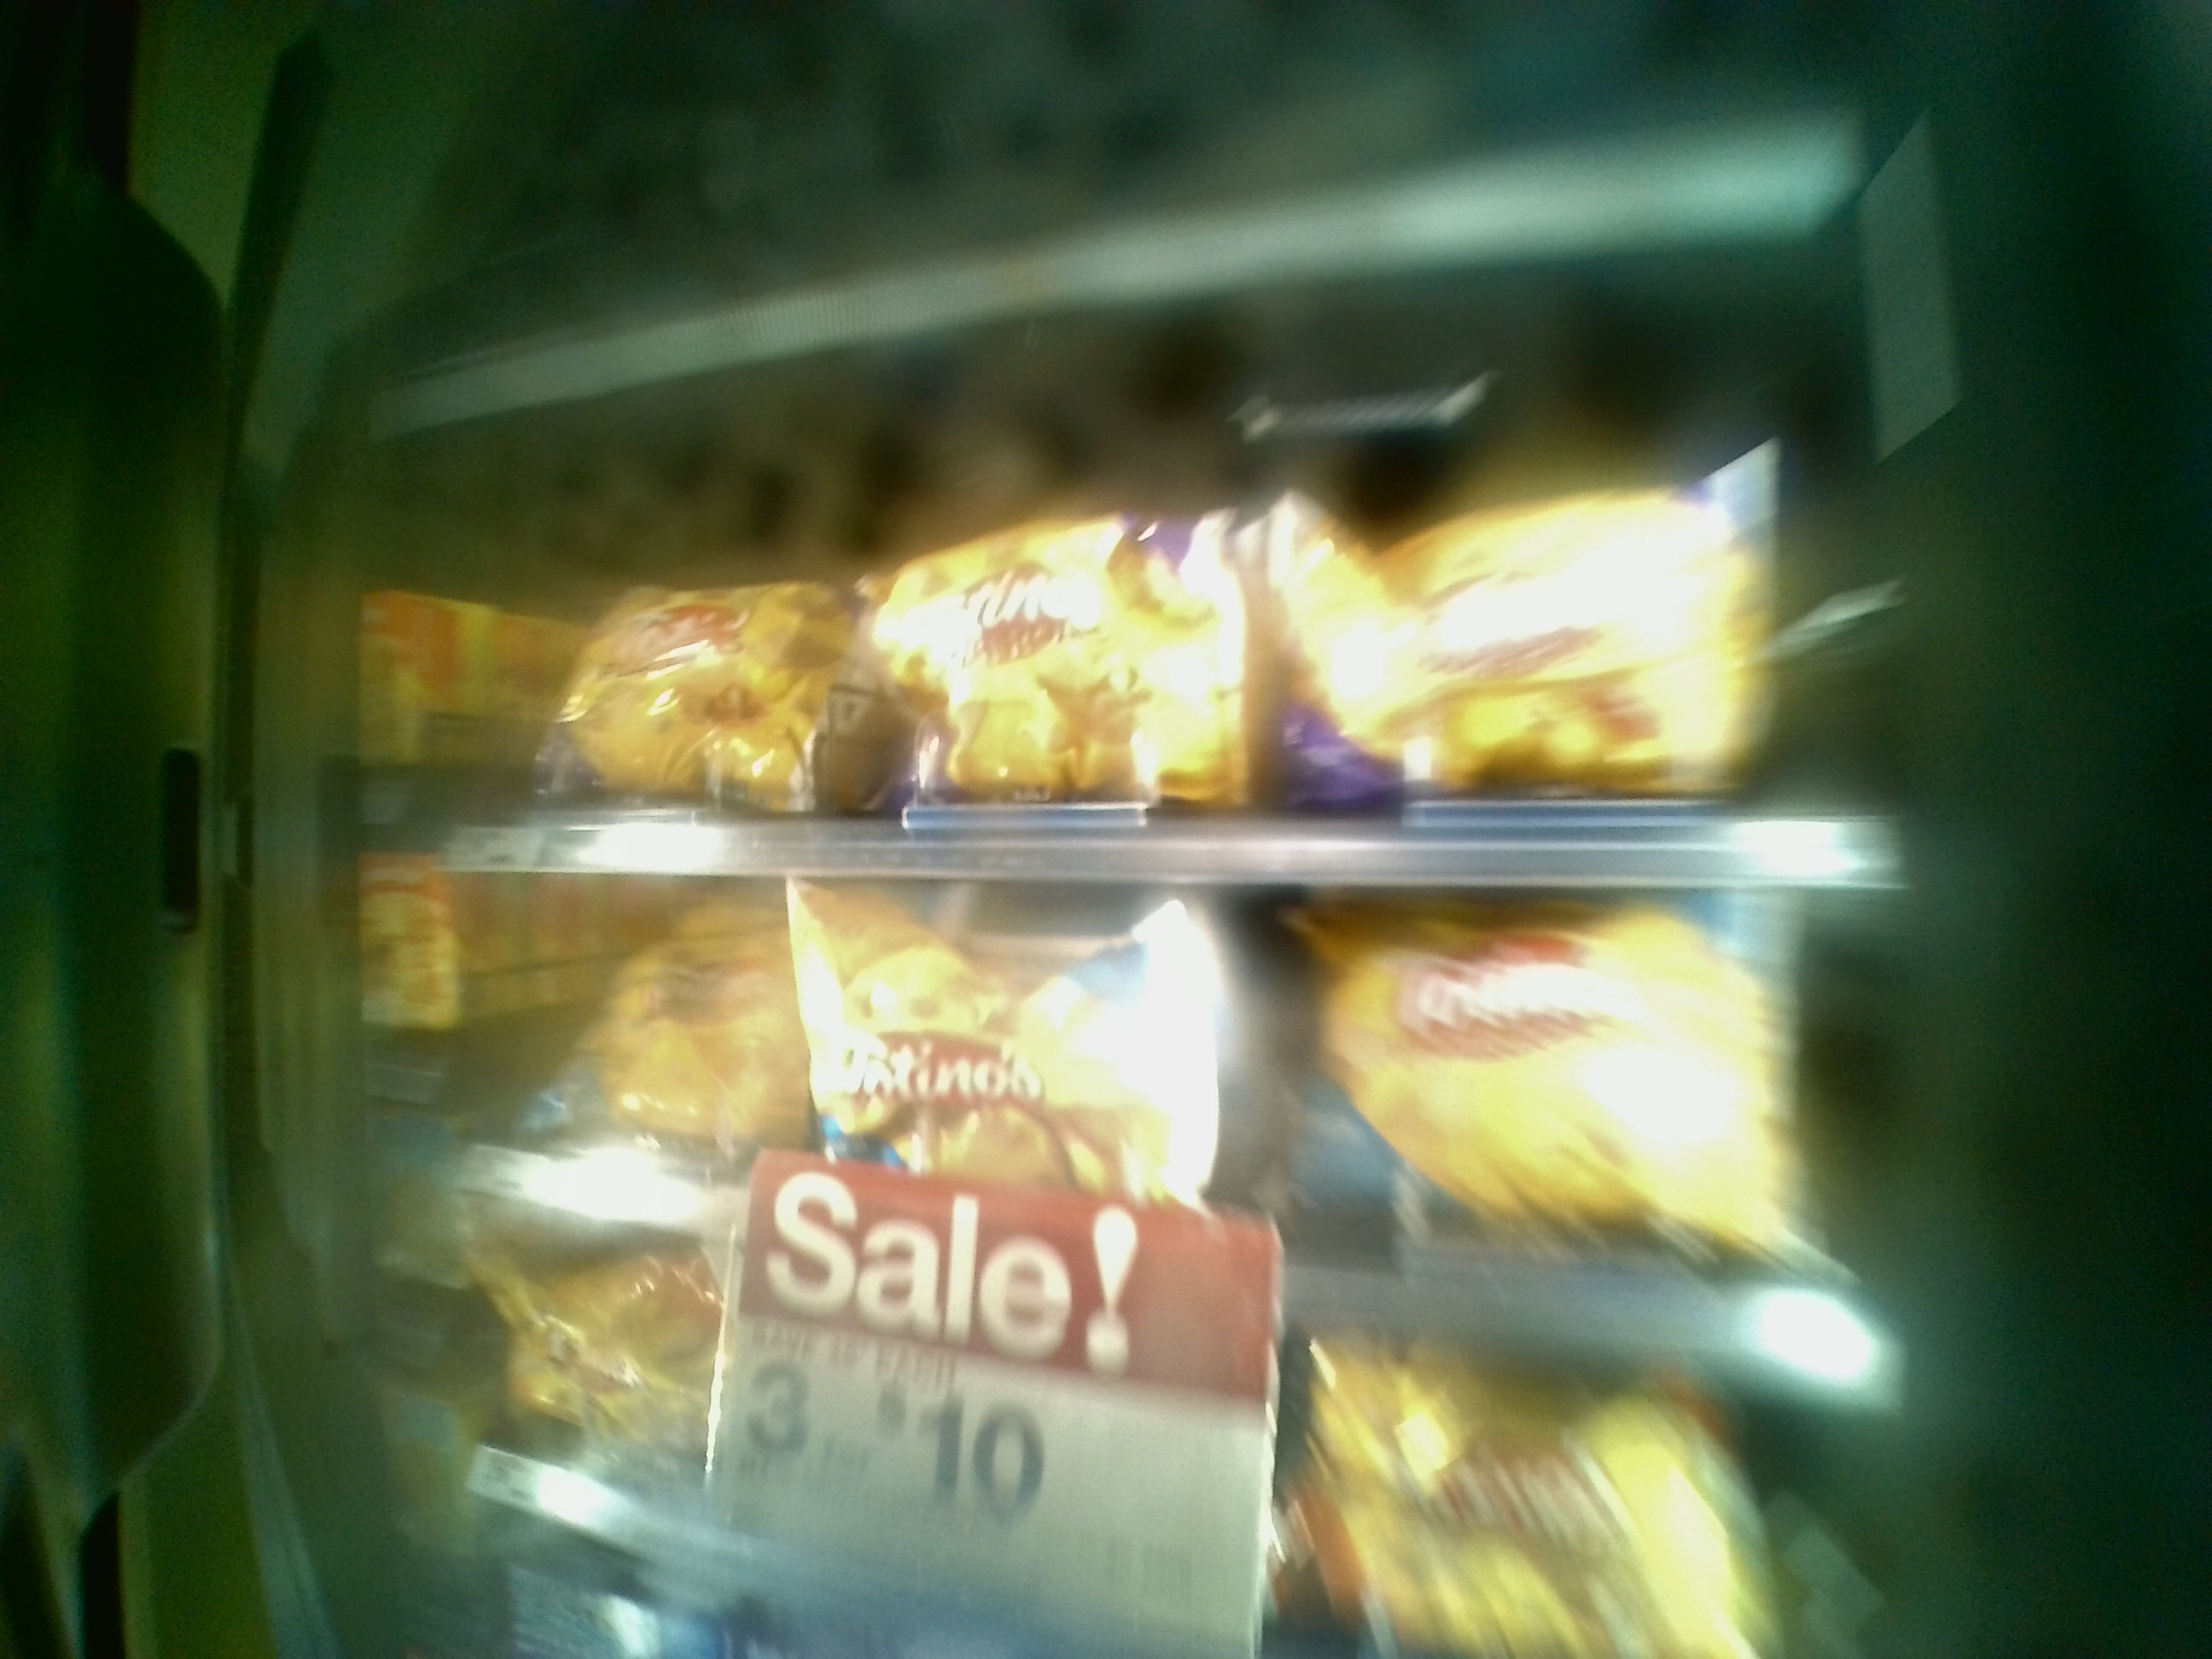shelf: (392, 838, 1864, 1340), (376, 416, 1890, 871)
